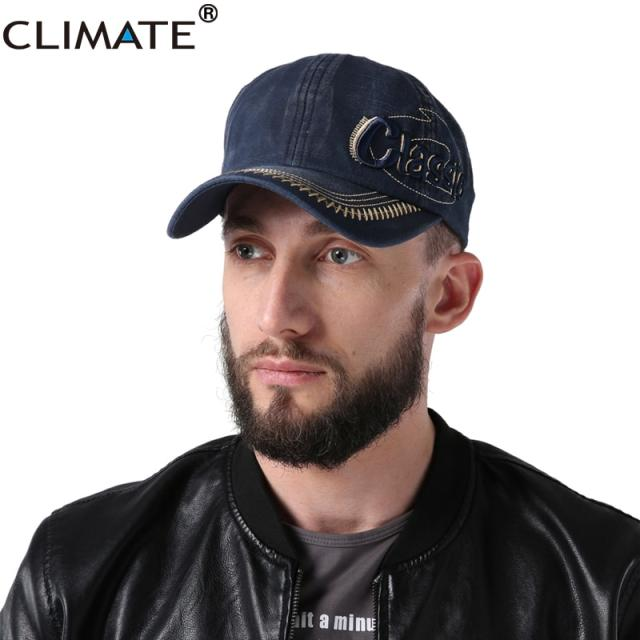cap: (158, 46, 484, 466)
